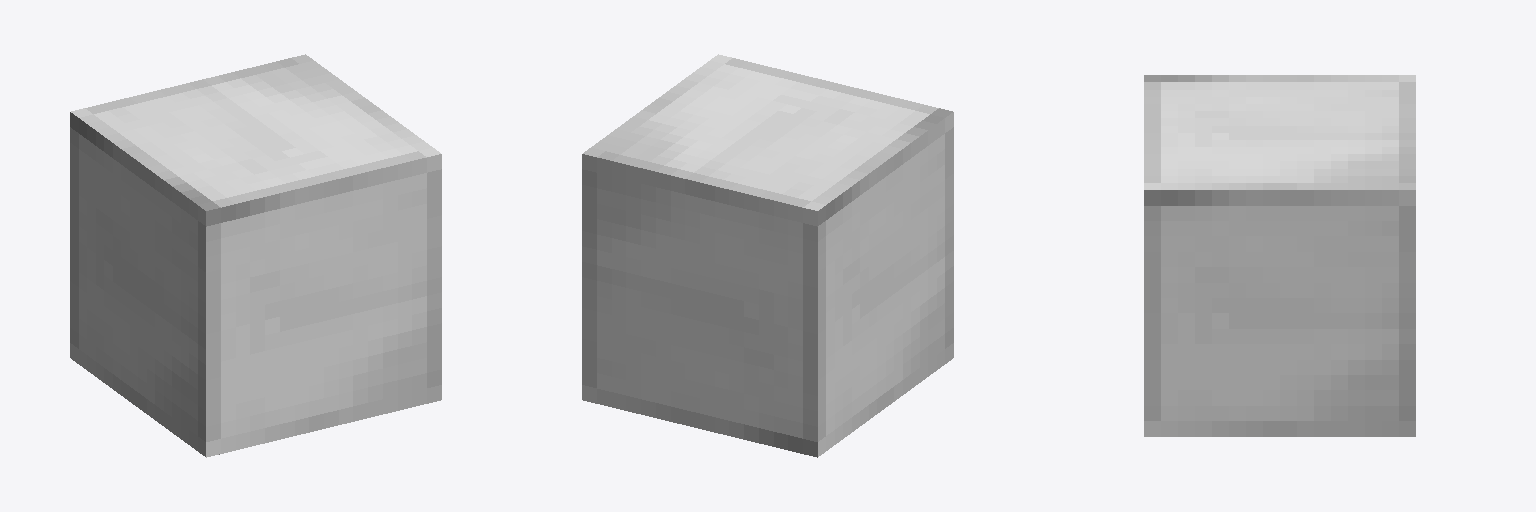
3 views of the same model, side by side, from view 1: azimuth 30°, elevation 25°; view 2: azimuth 150°, elevation 25°; view 3: azimuth 270°, elevation 25° (orthographic).
Parts seen in each view (by area): view 1: iron_block_Cube.006; view 2: iron_block_Cube.006; view 3: iron_block_Cube.006.
Part boxes in pixels (x1,y1,x2,y2): iron_block_Cube.006: (70,54,441,457); iron_block_Cube.006: (582,54,953,457); iron_block_Cube.006: (1144,75,1415,436).
Bounding box in the file's own units: 1.6 × 1.6 × 1.6.
1 materials, 1 textured.